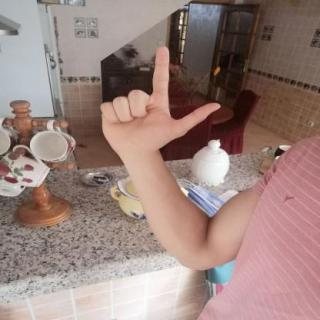LAAM: (92, 39, 228, 160)
